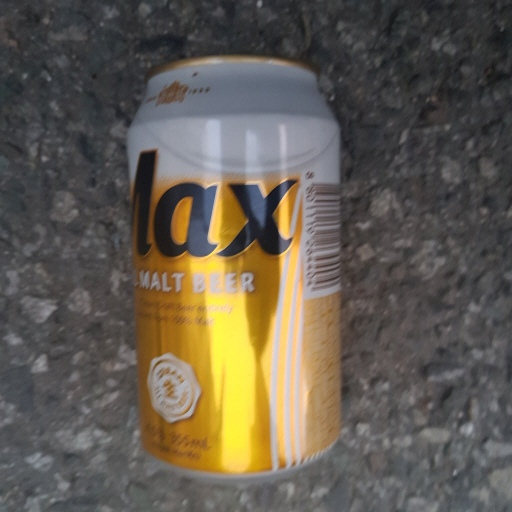Metal_0: (126, 53, 345, 484)
